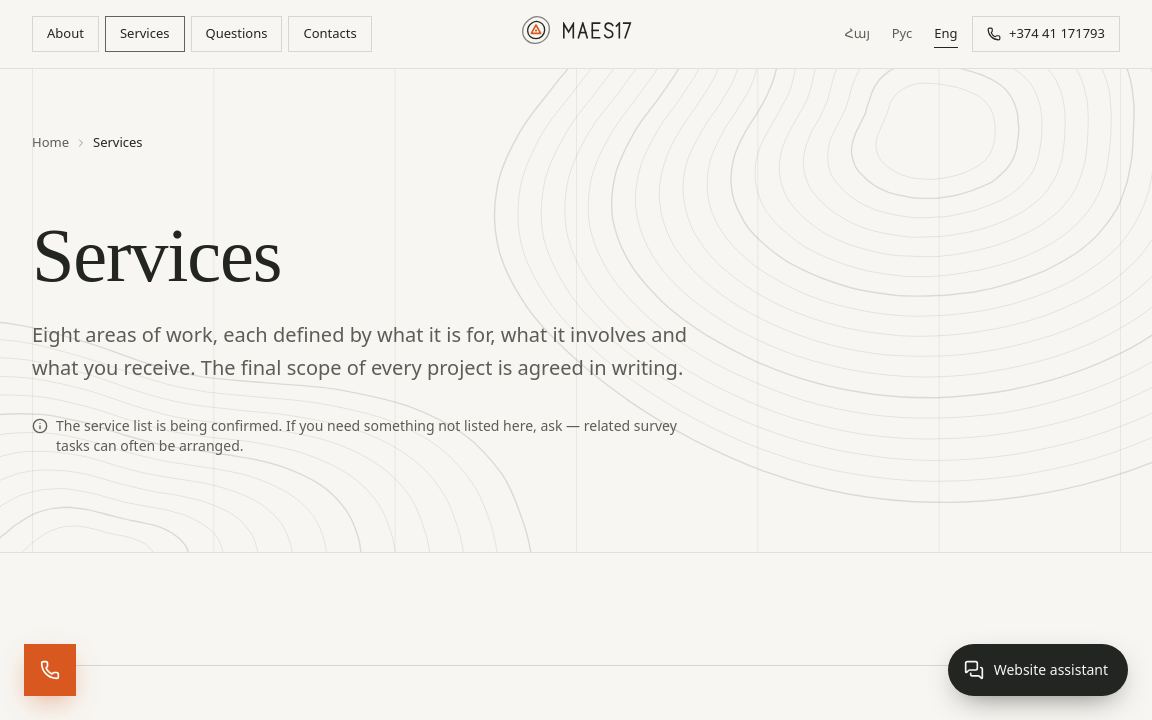
Test: routing and language switching › switches language and keeps the current page
Expected: the heading reads "Services", [32,213,281,298]
Click the link with aria-label "Русский" at (902, 33), box [892,24,912,42]
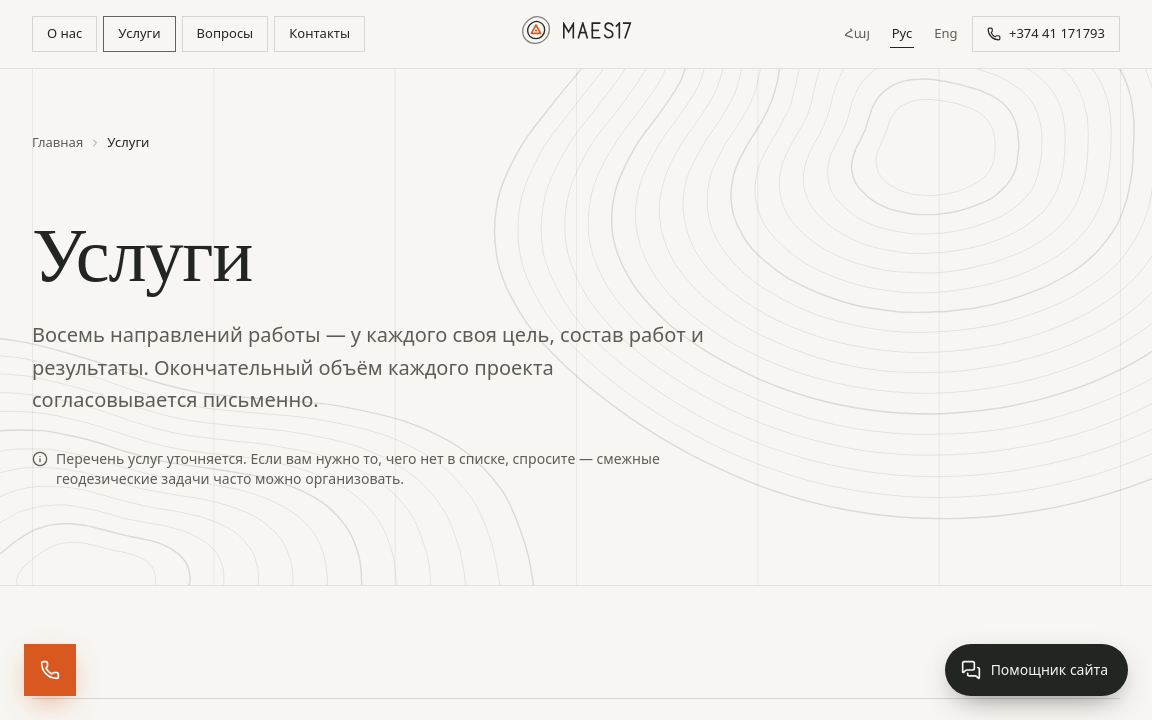
Now the heading reads "Услуги", box [32,213,252,298]
